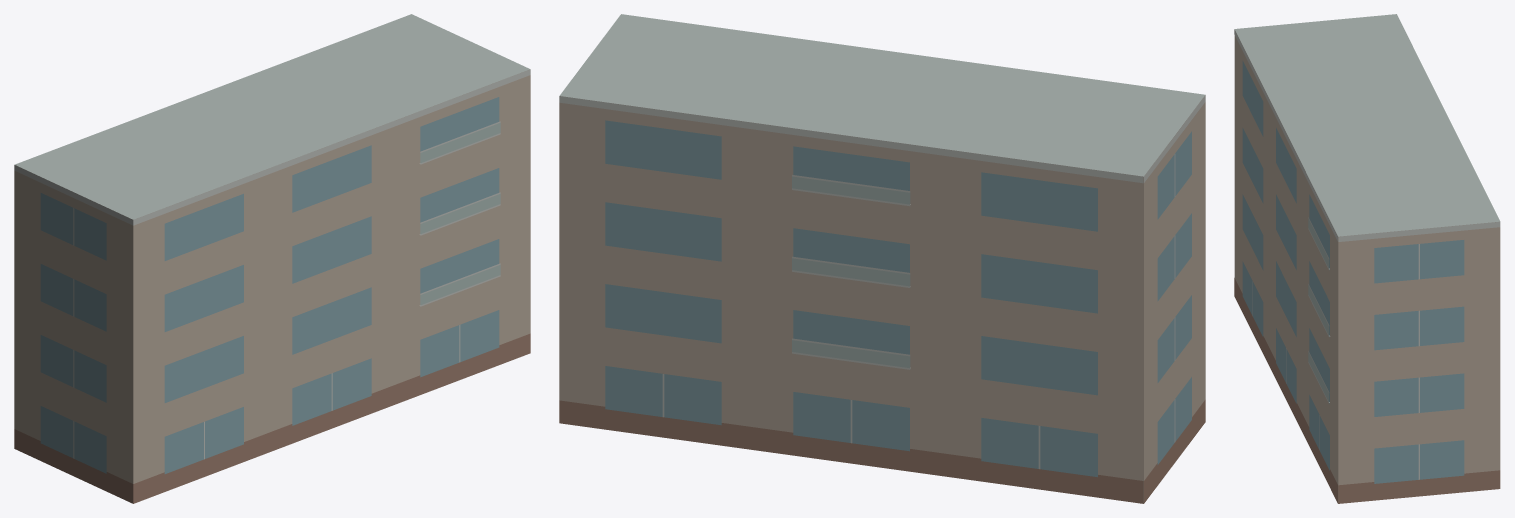
Rendered from survey-upis-32717836.glb.
3 views of the same model, side by side, from view 1: azimuth 30°, elevation 25°; view 2: azimuth 150°, elevation 25°; view 3: azimuth 270°, elevation 25° (orthographic). The views are drawn at different scales.
Visible parts, largest first — view 1: survey-upis-32717836.tmp; view 2: survey-upis-32717836.tmp; view 3: survey-upis-32717836.tmp.
Part boxes in pixels (<box>): survey-upis-32717836.tmp: <box>14,14,530,503</box>; survey-upis-32717836.tmp: <box>559,14,1205,503</box>; survey-upis-32717836.tmp: <box>1234,14,1500,503</box>.
Bounding box in the file's own units: 21.09 × 11.8 × 10.65.
